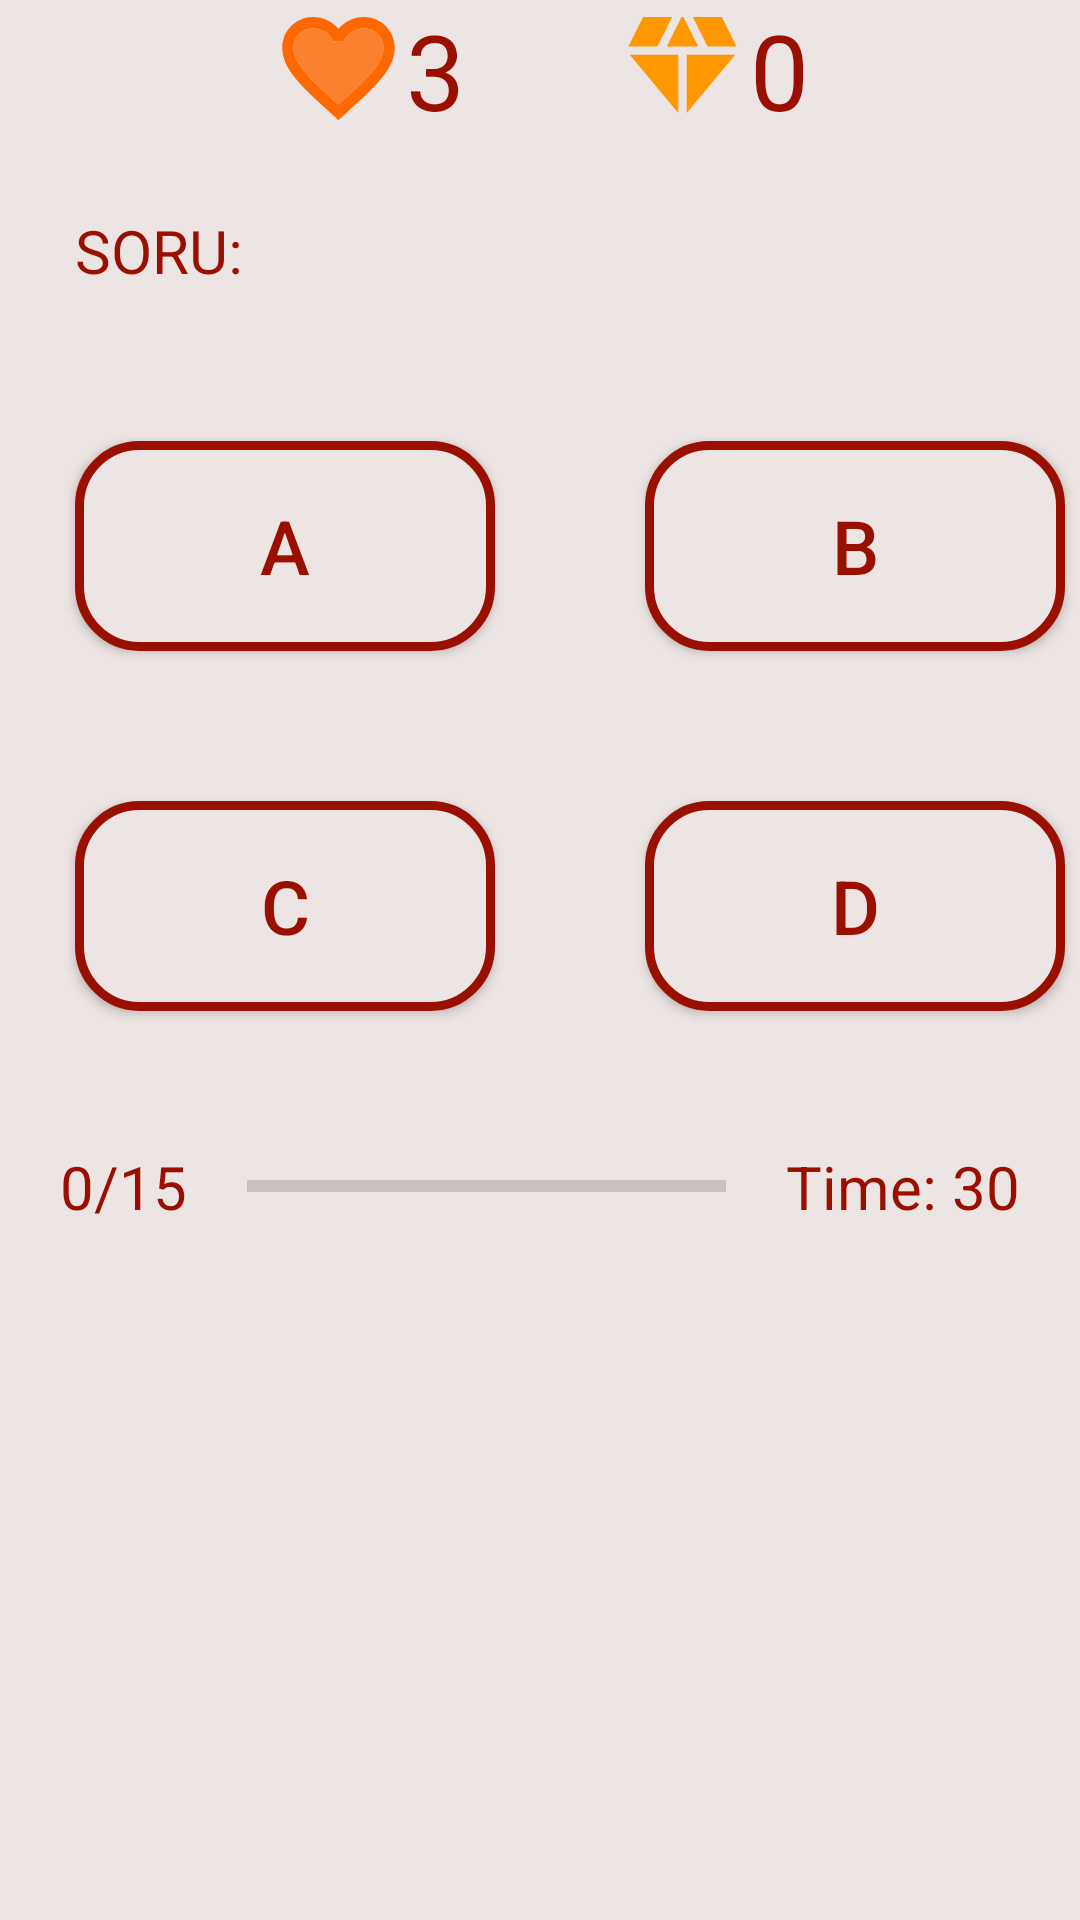

Named icons in this screenshot (1080px x 1920px) and their centers, [x,y]:
can: [338,68]
puan: [682,65]
